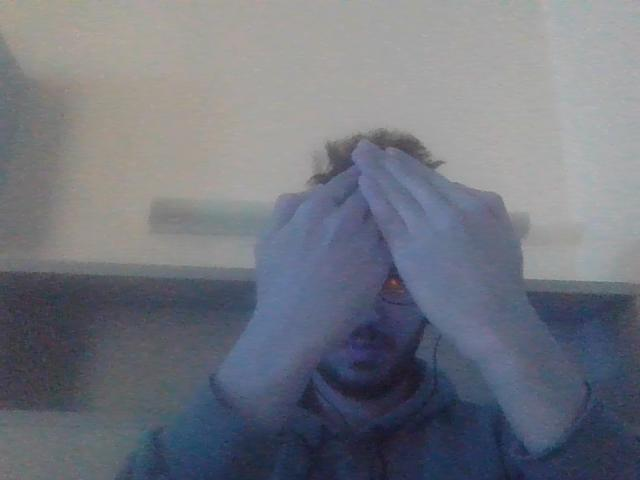thank you: (248, 134, 552, 398)
